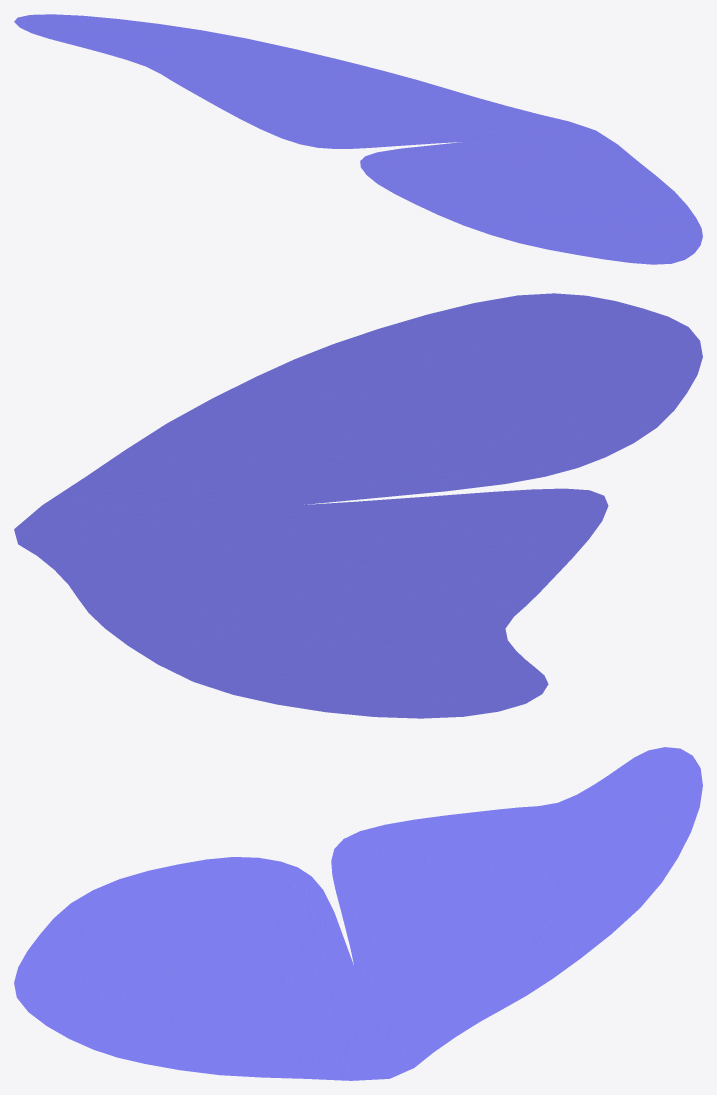
Rendered from AlaIzqButterflyobj.obj.
3 renders of one model, top to bottom at view 1: azimuth 30°, elevation 25°; view 2: azimuth 150°, elevation 25°; view 3: azimuth 270°, elevation 25°, orthographic. The views are drawn at different scales.
Parts seen in each view (by area): view 1: Plane.002; view 2: Plane.002; view 3: Plane.002.
Part boxes in pixels (x1,y1,x2,y2): Plane.002: (14, 14, 702, 264); Plane.002: (14, 293, 702, 718); Plane.002: (14, 747, 702, 1080).
Size of the model in its own units: 3.18 by 0.7675 by 4.21.
